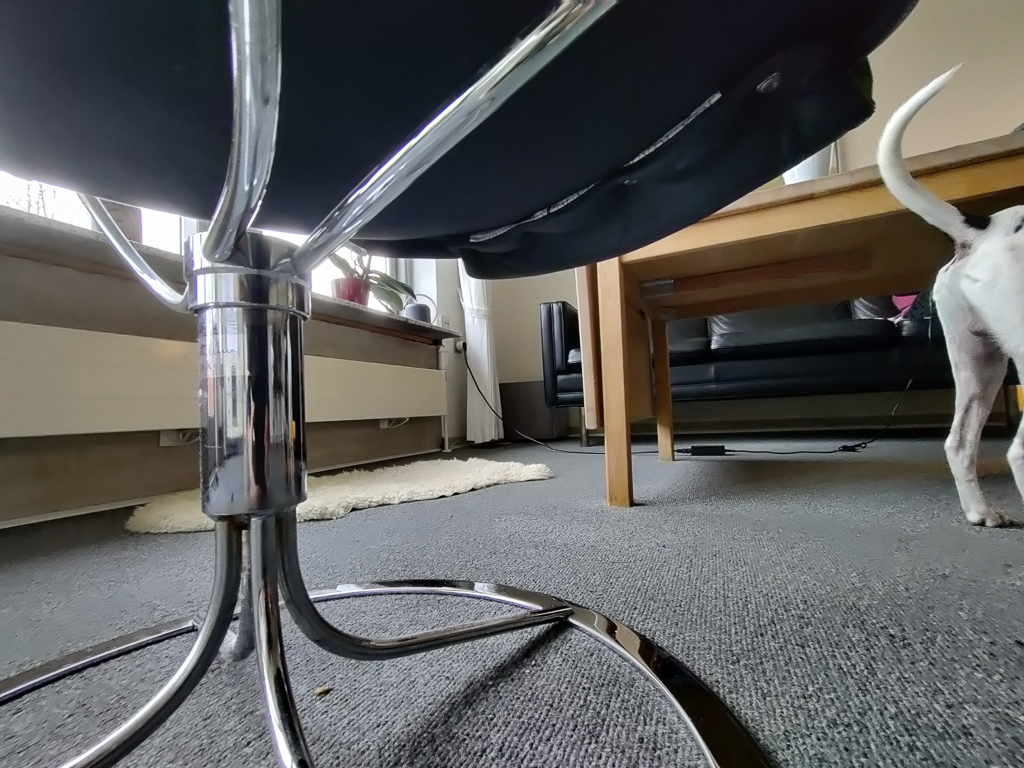Dog: (864, 53, 1024, 547)
